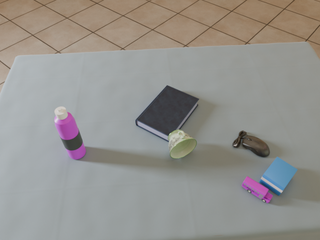book: (136, 85, 199, 142)
bottle: (55, 107, 86, 159)
box: (259, 157, 297, 195)
cup: (167, 129, 197, 158)
mouse: (233, 131, 270, 157)
toy_car: (242, 176, 273, 203)
